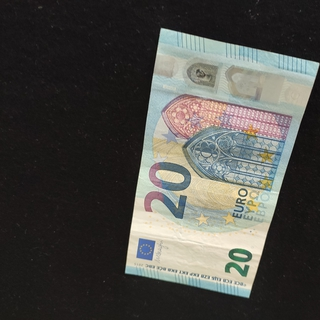20EUROFront: (124, 27, 320, 298)
